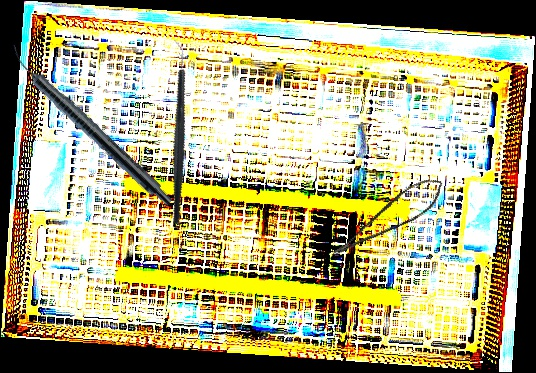Chopper: (107, 38, 245, 226)
Handpiece: (1, 42, 179, 210)
Micro Scissor: (321, 171, 452, 261)
